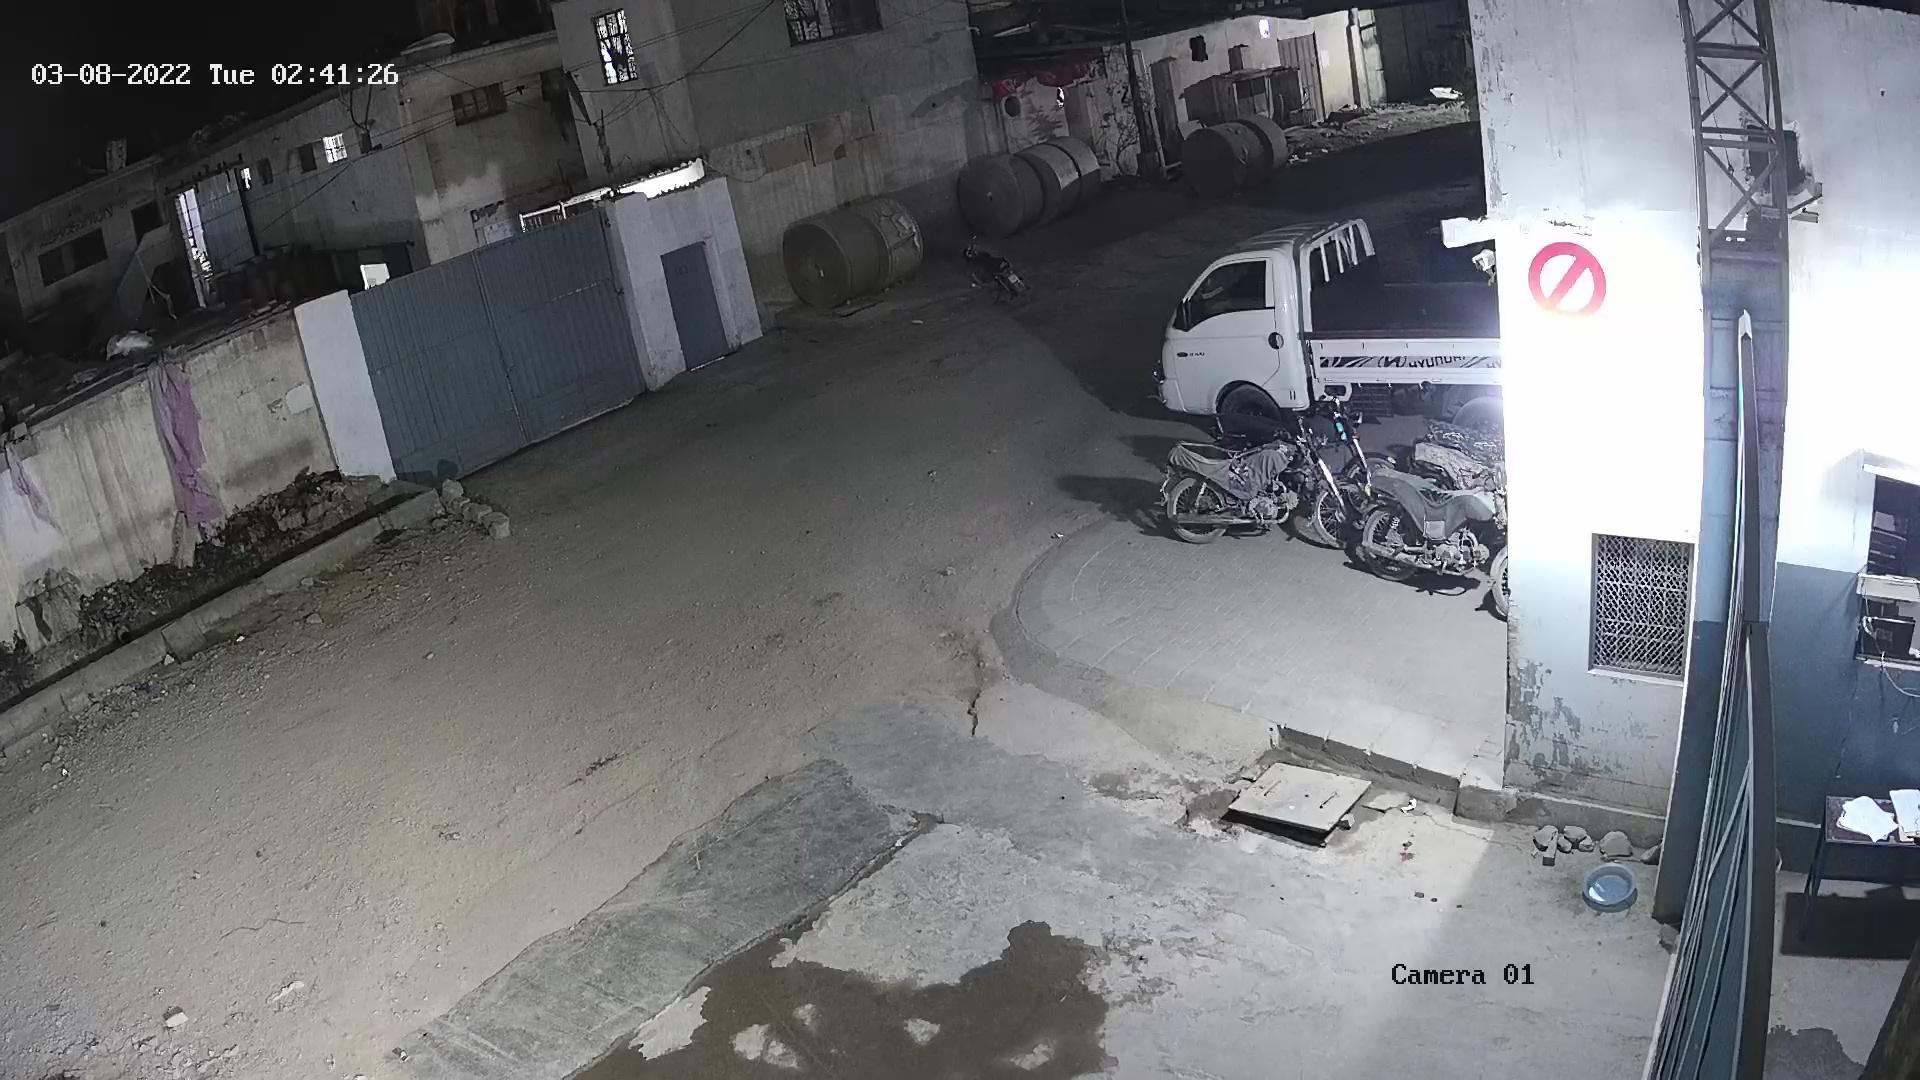Ltv: (1159, 219, 1510, 418)
bike: (1164, 411, 1358, 549), (1362, 462, 1507, 613), (1211, 393, 1375, 463), (1412, 439, 1507, 491), (963, 244, 1031, 305), (1415, 415, 1506, 446)
